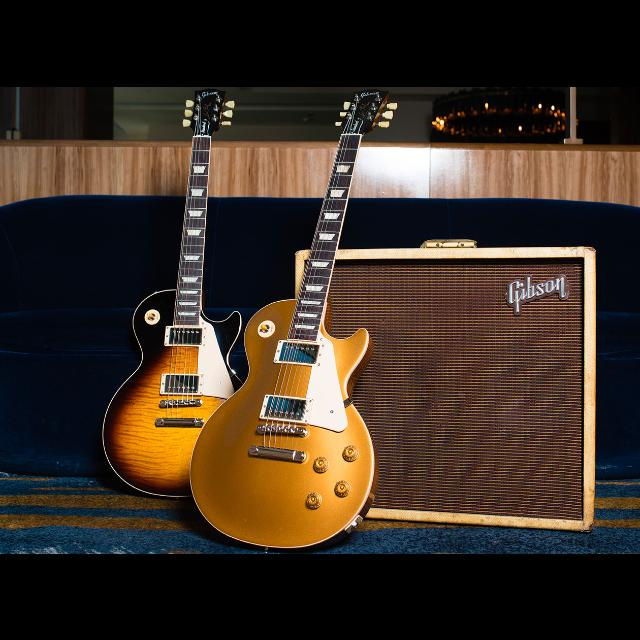Electric-Guitar: (195, 90, 398, 548), (105, 86, 247, 492)
